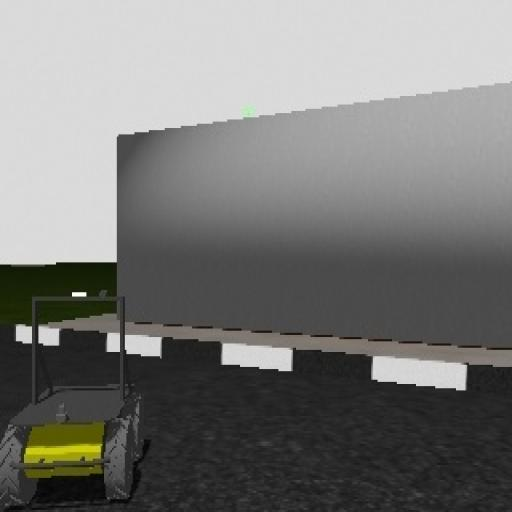huskya200: (4, 264, 144, 512)
